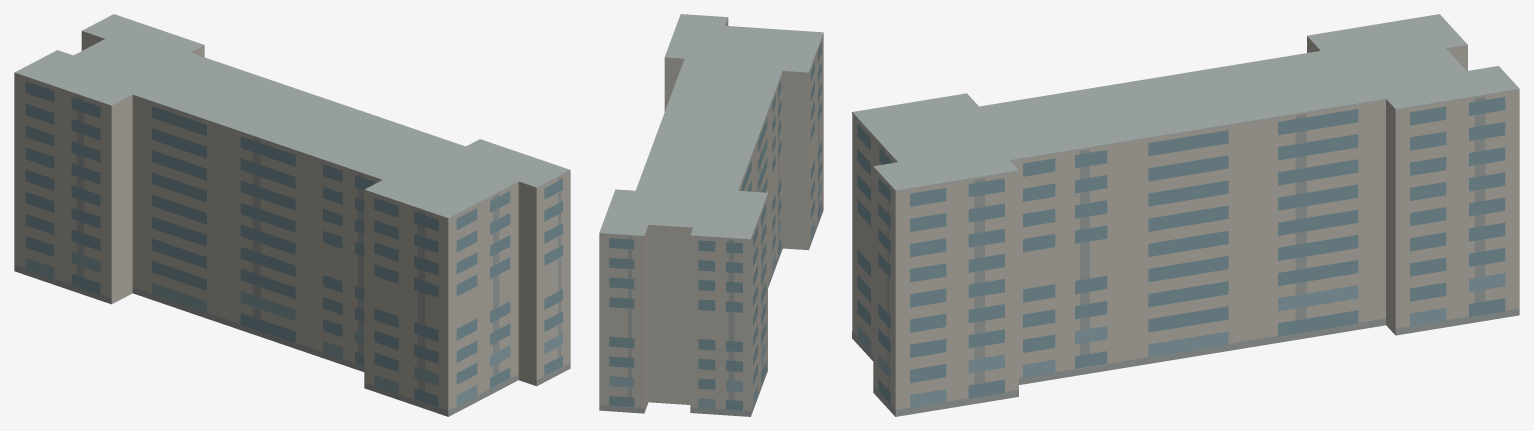
File: residential-d9219fba-ec6b-4aca-b4ac-d626d6bb5998.glb
The picture shows the model from 3 angles, left to right: view 1: azimuth 30°, elevation 25°; view 2: azimuth 150°, elevation 25°; view 3: azimuth 270°, elevation 25°; orthographic projection. The views are drawn at different scales.
Parts seen in each view (by area): view 1: residential-d9219fba-ec6b-4aca-b4ac-d626d6bb5998.tmp; view 2: residential-d9219fba-ec6b-4aca-b4ac-d626d6bb5998.tmp; view 3: residential-d9219fba-ec6b-4aca-b4ac-d626d6bb5998.tmp.
Part boxes in pixels (box(x1,y1,x2,y2)): residential-d9219fba-ec6b-4aca-b4ac-d626d6bb5998.tmp: box(14, 14, 570, 416); residential-d9219fba-ec6b-4aca-b4ac-d626d6bb5998.tmp: box(599, 14, 823, 416); residential-d9219fba-ec6b-4aca-b4ac-d626d6bb5998.tmp: box(852, 14, 1519, 416).
Bounding box in the file's own units: 43.45 × 26 × 69.46.
